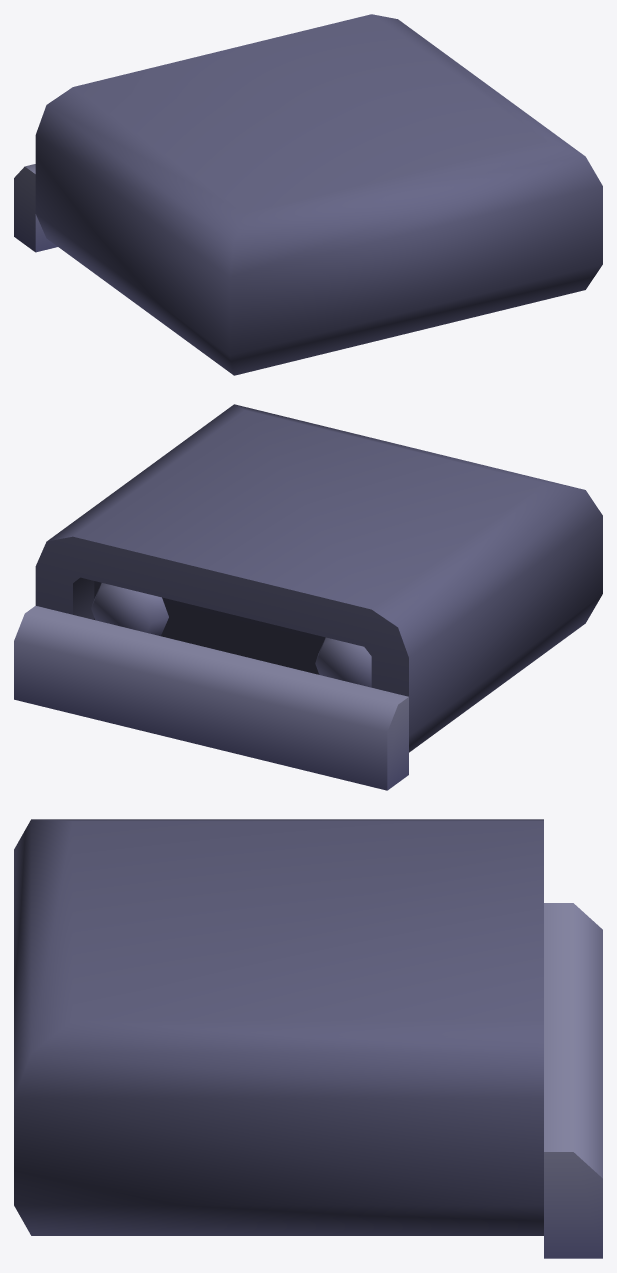
The model's file is conveyor-sides-junction-t.glb.
3 views of the same model, one above another, from view 1: azimuth 30°, elevation 25°; view 2: azimuth 150°, elevation 25°; view 3: azimuth 270°, elevation 25° (orthographic). The views are drawn at different scales.
Visible parts, largest first — view 1: conveyor-sides-junction-t; view 2: conveyor-sides-junction-t; view 3: conveyor-sides-junction-t.
Part boxes in pixels (box(x1,y1,x2,y2)): conveyor-sides-junction-t: box(14, 14, 602, 375); conveyor-sides-junction-t: box(14, 404, 602, 790); conveyor-sides-junction-t: box(14, 819, 602, 1258).
Size of the model in its own units: 1 by 0.4 by 1.
